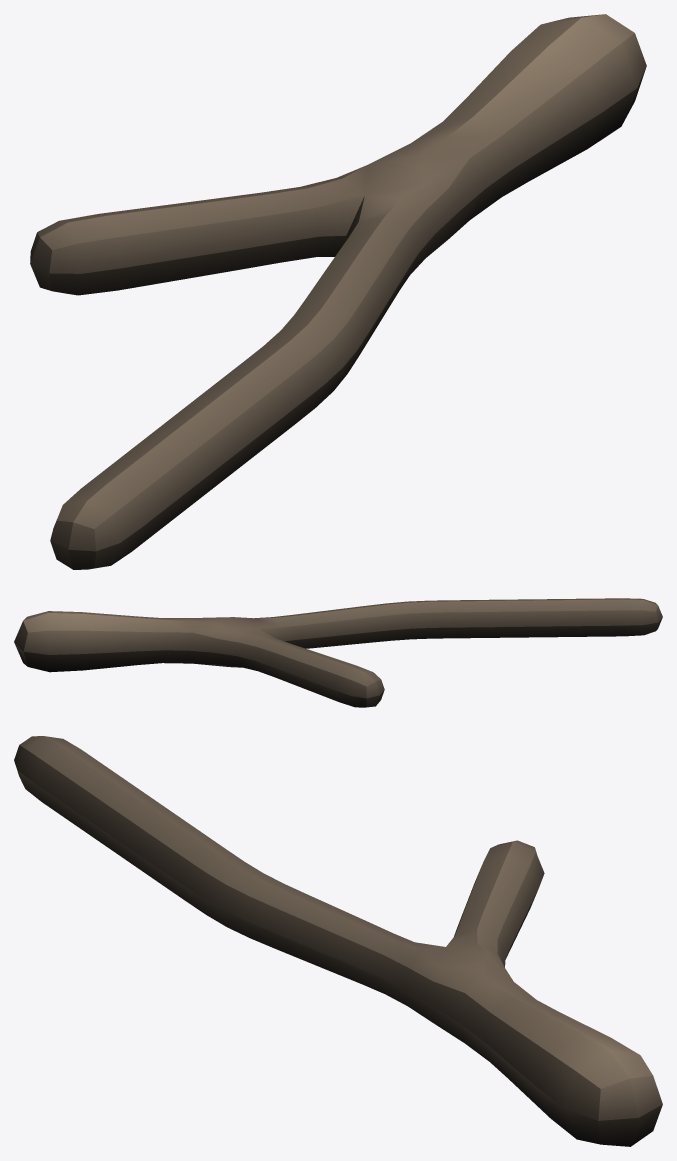
File: branch4.fbx
3 renders of one model, top to bottom at view 1: azimuth 30°, elevation 25°; view 2: azimuth 150°, elevation 25°; view 3: azimuth 270°, elevation 25°, orthographic. The views are drawn at different scales.
Parts seen in each view (by area): view 1: branch5; view 2: branch5; view 3: branch5.
Boxes of the visible parts, x1,y1,x2,y2 form: branch5: (30, 14, 646, 569); branch5: (14, 598, 662, 707); branch5: (14, 736, 662, 1146).
Bounding box in the file's own units: 266 × 31.32 × 197.
